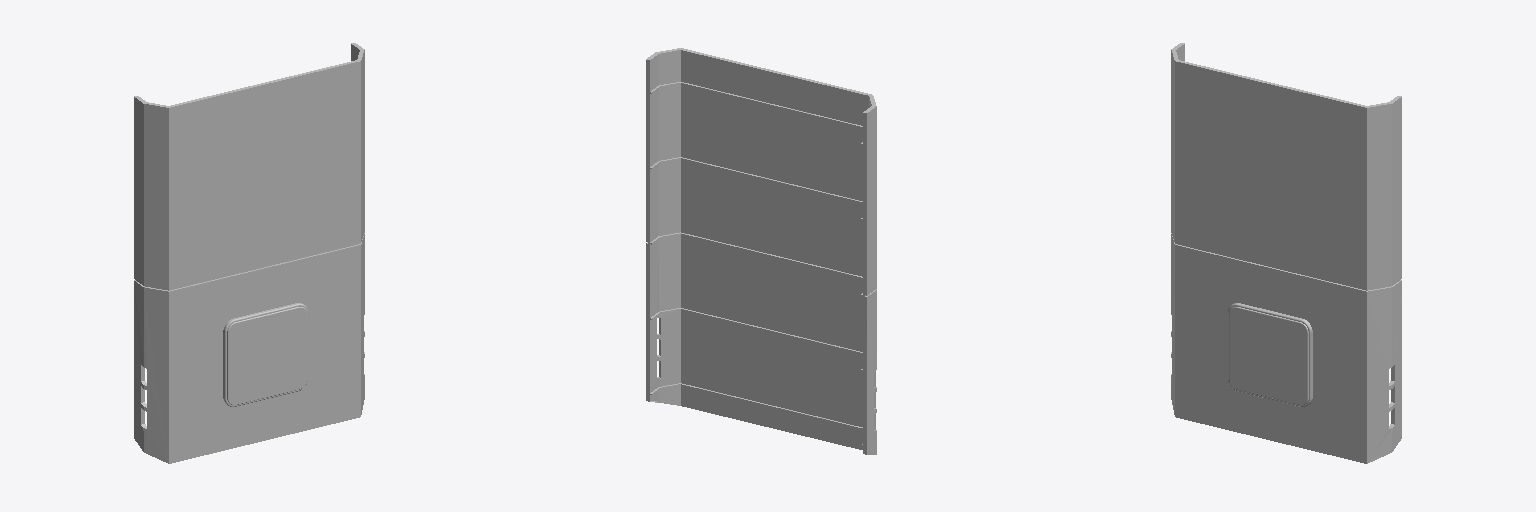
The model's file is roof-pt1.obj.
The picture shows the model from 3 angles: view 1: azimuth 30°, elevation 25°; view 2: azimuth 150°, elevation 25°; view 3: azimuth 330°, elevation 25°; orthographic projection.
Visible parts, largest first — view 1: roof.001; view 2: roof.001; view 3: roof.001.
Part boxes in pixels (left/top/right/bottom): roof.001: left=134, top=43, right=364, bottom=463; roof.001: left=646, top=48, right=876, bottom=454; roof.001: left=1171, top=43, right=1401, bottom=463.
Size of the model in its own units: 0.1325 by 0.2038 by 0.0241.